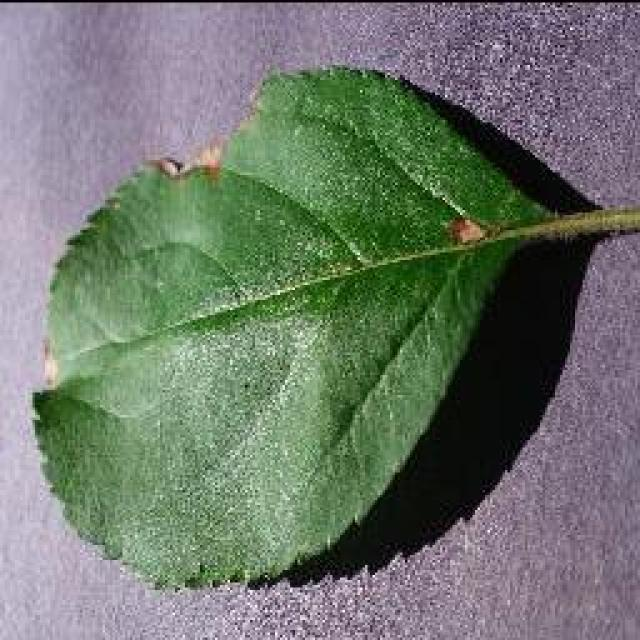apple black rot: (28, 62, 610, 592)
